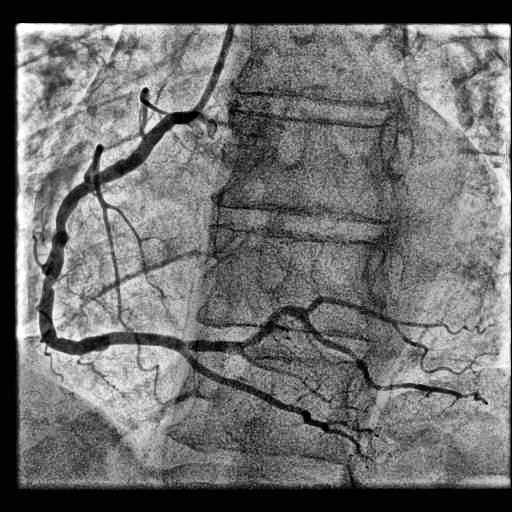pborca: (186, 298, 459, 397)
pda: (182, 350, 376, 470)
rca: (39, 112, 188, 354)
